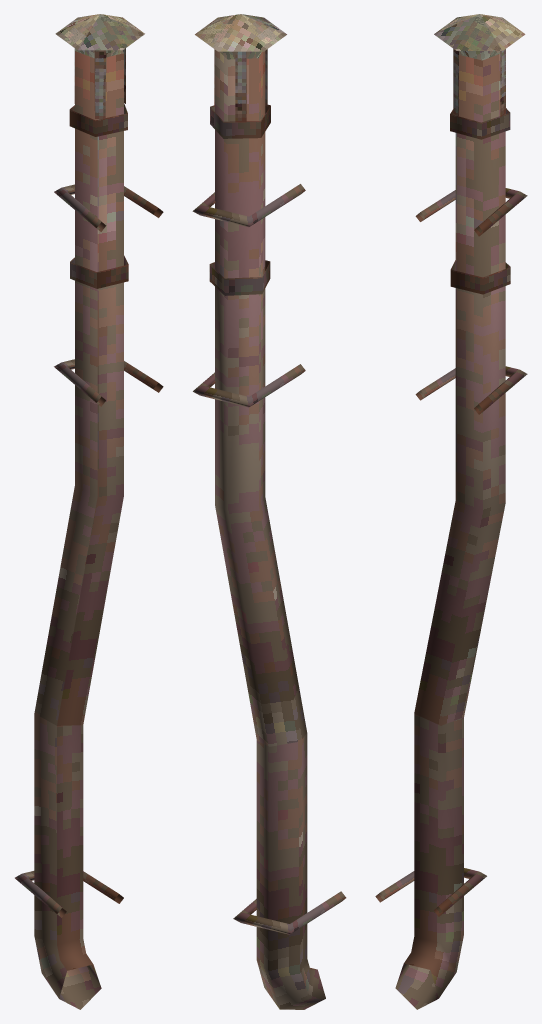
File: pipes_out_2.glb
3 renders of one model, left to right at view 1: azimuth 30°, elevation 25°; view 2: azimuth 150°, elevation 25°; view 3: azimuth 330°, elevation 25°, orthographic. The views are drawn at different scales.
Visible parts, largest first — view 1: Pipes_out_2; view 2: Pipes_out_2; view 3: Pipes_out_2.
Part boxes in pixels (x1,y1,x2,y2): Pipes_out_2: [15, 14, 163, 1009]; Pipes_out_2: [192, 14, 346, 1009]; Pipes_out_2: [375, 14, 527, 1009].
Size of the model in its own units: 0.4621 by 4.02 by 0.3914.
1 material, 1 textured.
